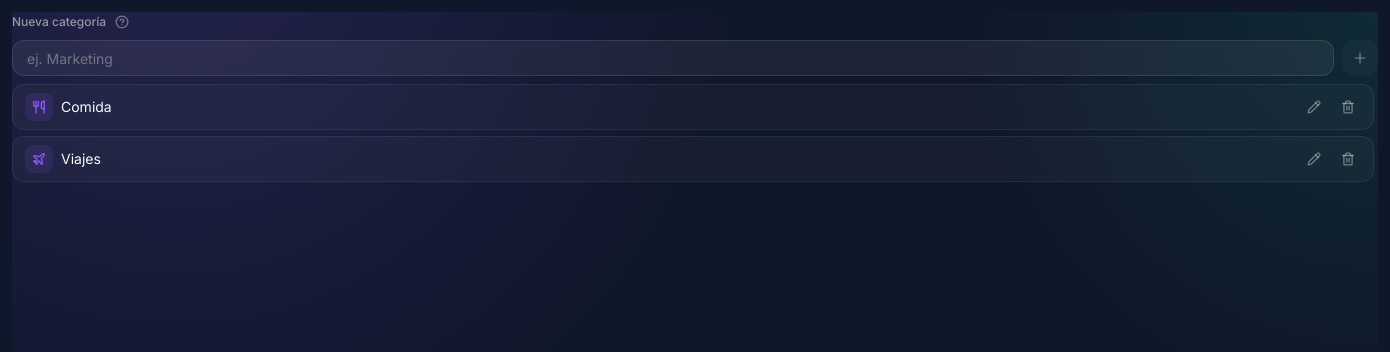
Test case: Módulos: alta y errores 409 › archivar una categoría que el backend rechaza con 409 muestra el motivo
Click the button named "Archivar Viajes": (1348,159) [1335,146,1361,172]
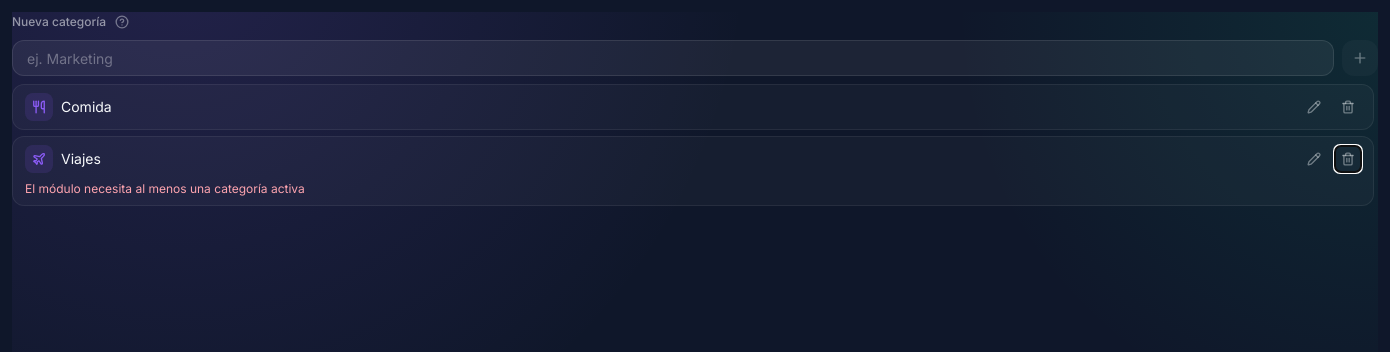
Expected: the message reads "El módulo necesita al menos una categoría activa", [25,181,305,196]
